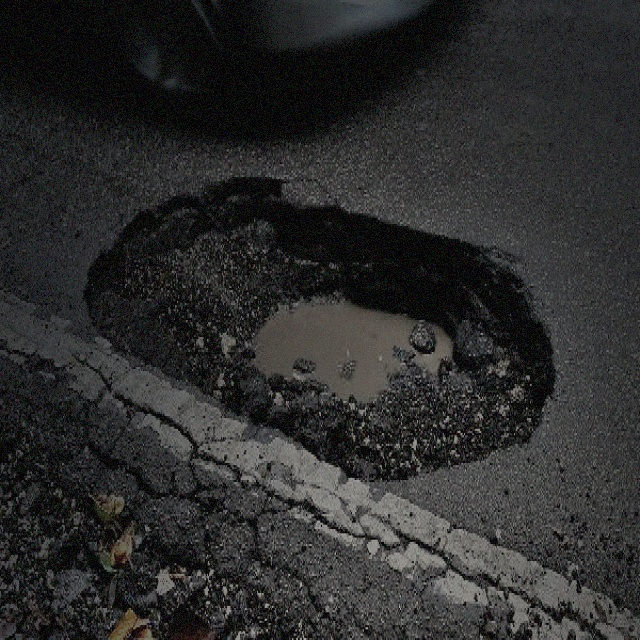pothole: (79, 168, 557, 486)
